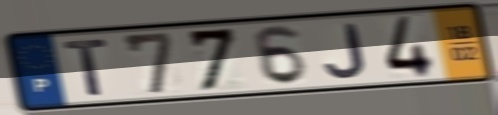4: (383, 13, 438, 80)
6: (251, 23, 311, 87)
7: (119, 31, 179, 97), (188, 26, 240, 94)
J: (322, 22, 370, 81)
T: (61, 37, 112, 98)
